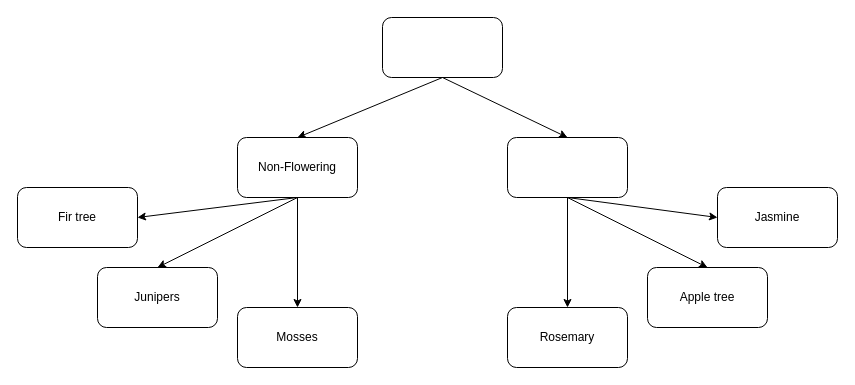
Some shapes in this 855 by 385 pixel diagram are drawn without their labels. Here are the shapes that lost their labels. From the top down, the centre of each, then its label:
the point at 442,47: Plant
the point at 567,167: Flowering
